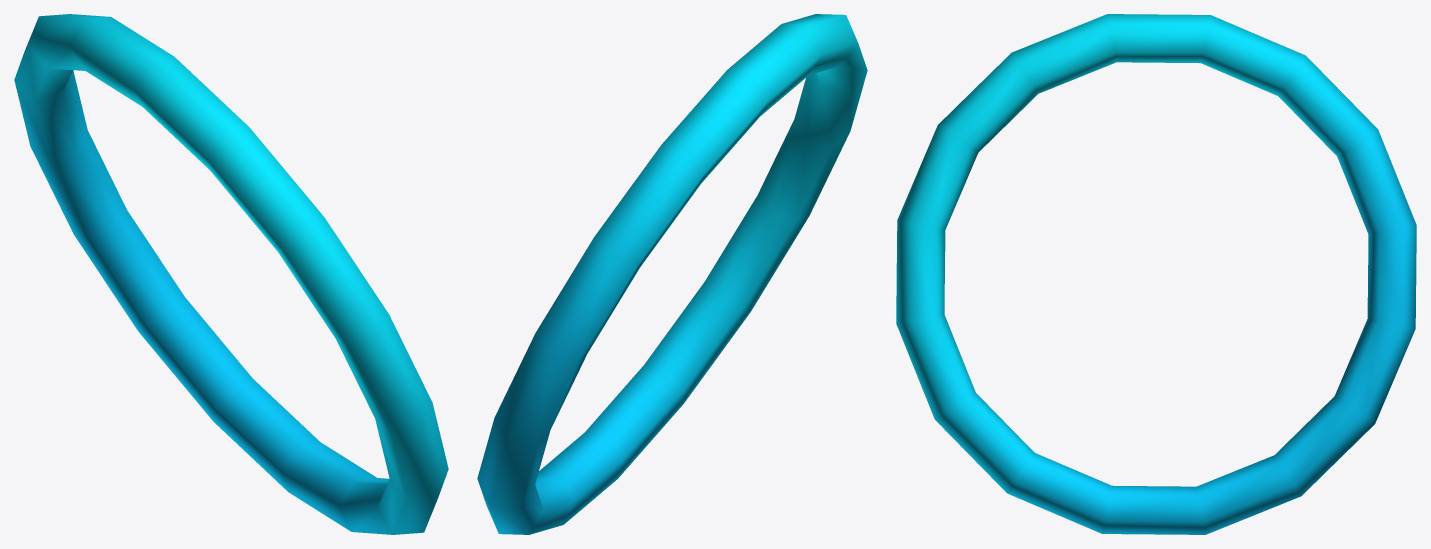
File: MG1_Magazine_Torus_01.fbx
3 views of the same model, side by side, from view 1: azimuth 30°, elevation 25°; view 2: azimuth 150°, elevation 25°; view 3: azimuth 270°, elevation 25° (orthographic). The views are drawn at different scales.
Parts seen in each view (by area): view 1: MG1_Magazine_Torus_01; view 2: MG1_Magazine_Torus_01; view 3: MG1_Magazine_Torus_01.
Boxes of the visible parts, <box> form: MG1_Magazine_Torus_01: <box>14,14,448,534</box>; MG1_Magazine_Torus_01: <box>477,14,867,534</box>; MG1_Magazine_Torus_01: <box>896,14,1416,534</box>.
Bounding box in the file's own units: 2.45 × 4.69 × 5.13.
